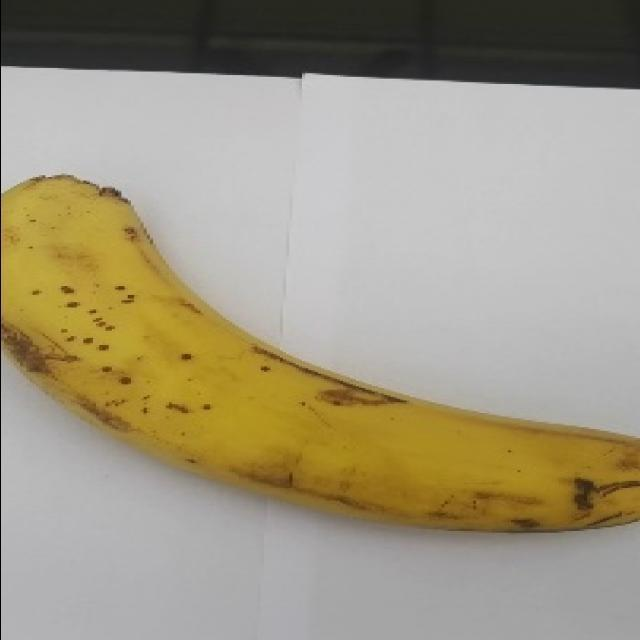Banana: (2, 166, 640, 536)
